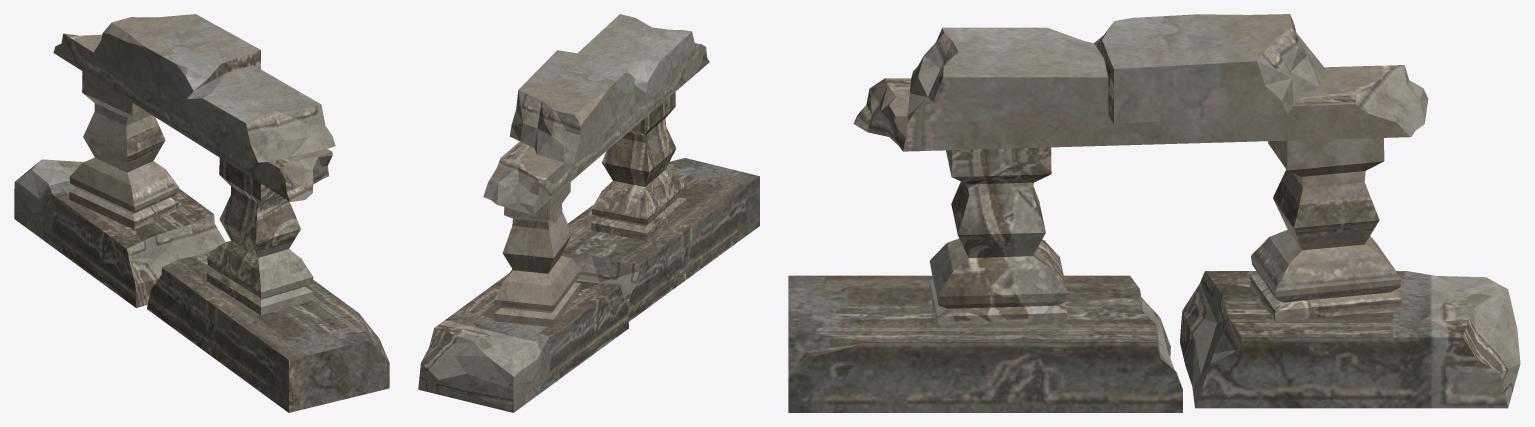
File: bg_lut_lutomb_brokenfence01a_sm_old.FBX
3 views of the same model, side by side, from view 1: azimuth 30°, elevation 25°; view 2: azimuth 150°, elevation 25°; view 3: azimuth 270°, elevation 25° (orthographic). The views are drawn at different scales.
Visible parts, largest first — view 1: bg_lut_lutomb_brokenfence01a_sm_old; view 2: bg_lut_lutomb_brokenfence01a_sm_old; view 3: bg_lut_lutomb_brokenfence01a_sm_old.
Boxes of the visible parts, left/top/right/bottom form: bg_lut_lutomb_brokenfence01a_sm_old: left=14, top=14, right=389, bottom=412; bg_lut_lutomb_brokenfence01a_sm_old: left=418, top=14, right=759, bottom=412; bg_lut_lutomb_brokenfence01a_sm_old: left=788, top=14, right=1520, bottom=412.
Bounding box in the file's own units: 29.85 × 66.48 × 130.
